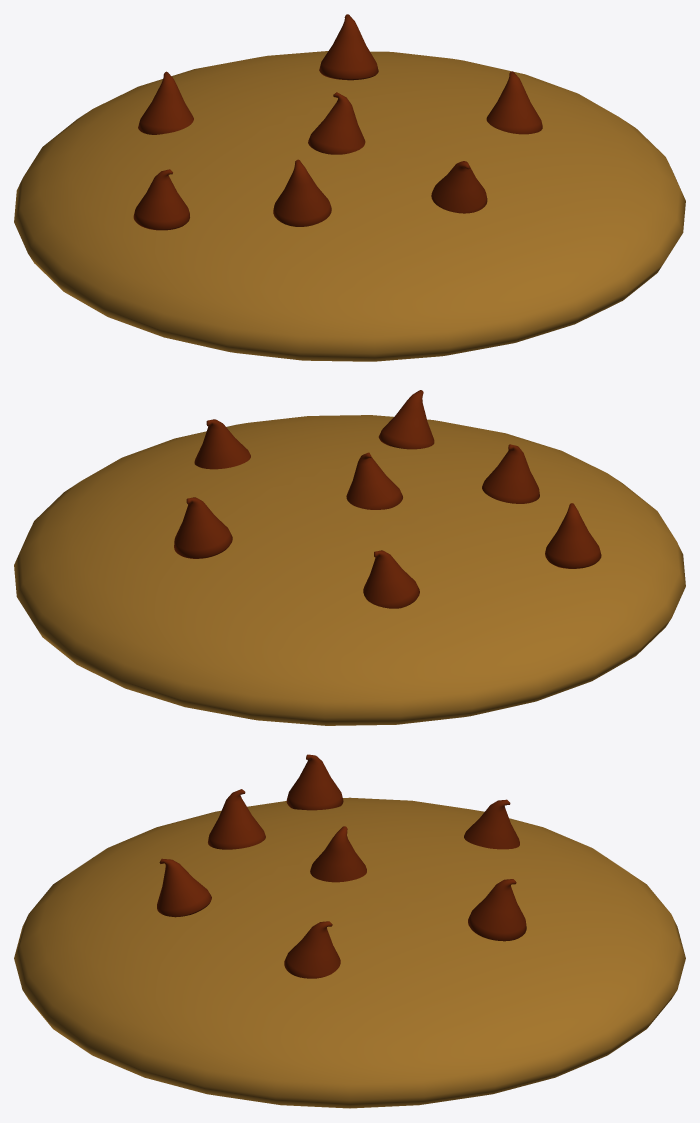
File: COOKIE.fbx
3 views of the same model, one above another, from view 1: azimuth 30°, elevation 25°; view 2: azimuth 150°, elevation 25°; view 3: azimuth 270°, elevation 25° (orthographic).
Visible parts, largest first — view 1: Sphere, Cylinder.007, Cylinder.003, Cylinder.001, Cylinder.004, Cylinder.005, Cylinder.006, Cylinder.002; view 2: Sphere, Cylinder.003, Cylinder.001, Cylinder.006, Cylinder.007, Cylinder.004, Cylinder.002, Cylinder.005; view 3: Sphere, Cylinder.003, Cylinder.005, Cylinder.007, Cylinder.002, Cylinder.001, Cylinder.004, Cylinder.006.
Part boxes in pixels (x1,y1,x2,y2): Sphere: (14, 51, 685, 361); Cylinder.007: (273, 159, 331, 226); Cylinder.003: (319, 14, 378, 80); Cylinder.001: (133, 169, 189, 230); Cylinder.004: (308, 92, 365, 154); Cylinder.005: (486, 71, 542, 134); Cylinder.006: (138, 71, 193, 134); Cylinder.002: (431, 161, 487, 213); Sphere: (14, 415, 685, 725); Cylinder.003: (174, 497, 232, 558); Cylinder.001: (545, 503, 601, 568); Cylinder.006: (363, 550, 419, 608); Cylinder.007: (482, 444, 539, 503); Cylinder.004: (346, 452, 402, 509); Cylinder.002: (378, 390, 434, 449); Cylinder.005: (194, 419, 250, 469); Sphere: (14, 797, 685, 1108); Cylinder.003: (468, 879, 526, 941); Cylinder.005: (284, 921, 340, 978); Cylinder.007: (208, 789, 265, 849); Cylinder.002: (157, 858, 211, 917); Cylinder.001: (286, 754, 343, 810); Cylinder.004: (310, 826, 366, 882); Cylinder.006: (464, 799, 519, 849).
Bounding box in the file's own units: 188 × 54.15 × 188.
